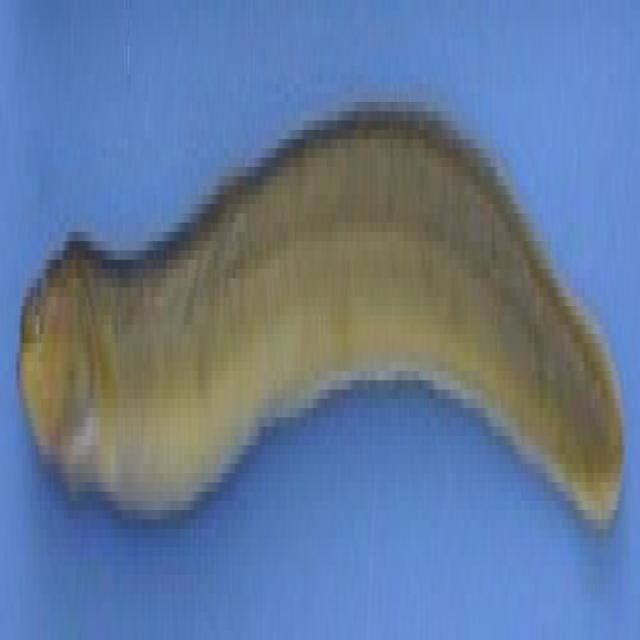Freshwater-Eel: (0, 119, 633, 578)
